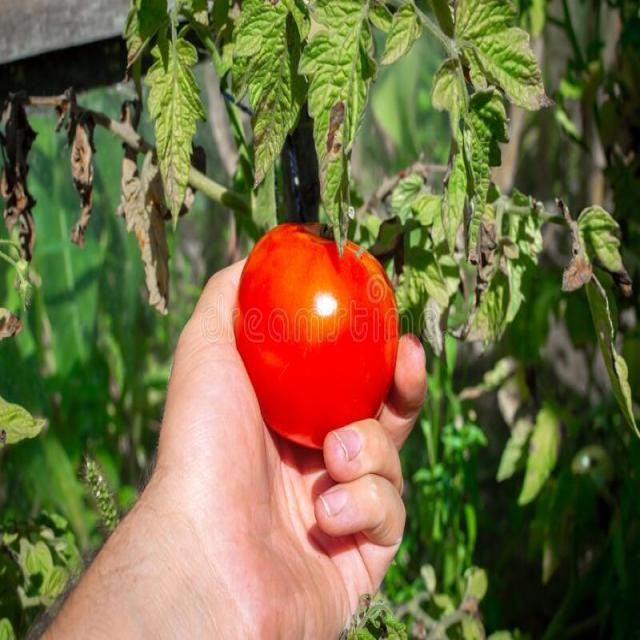kirmizi: (222, 224, 426, 440)
